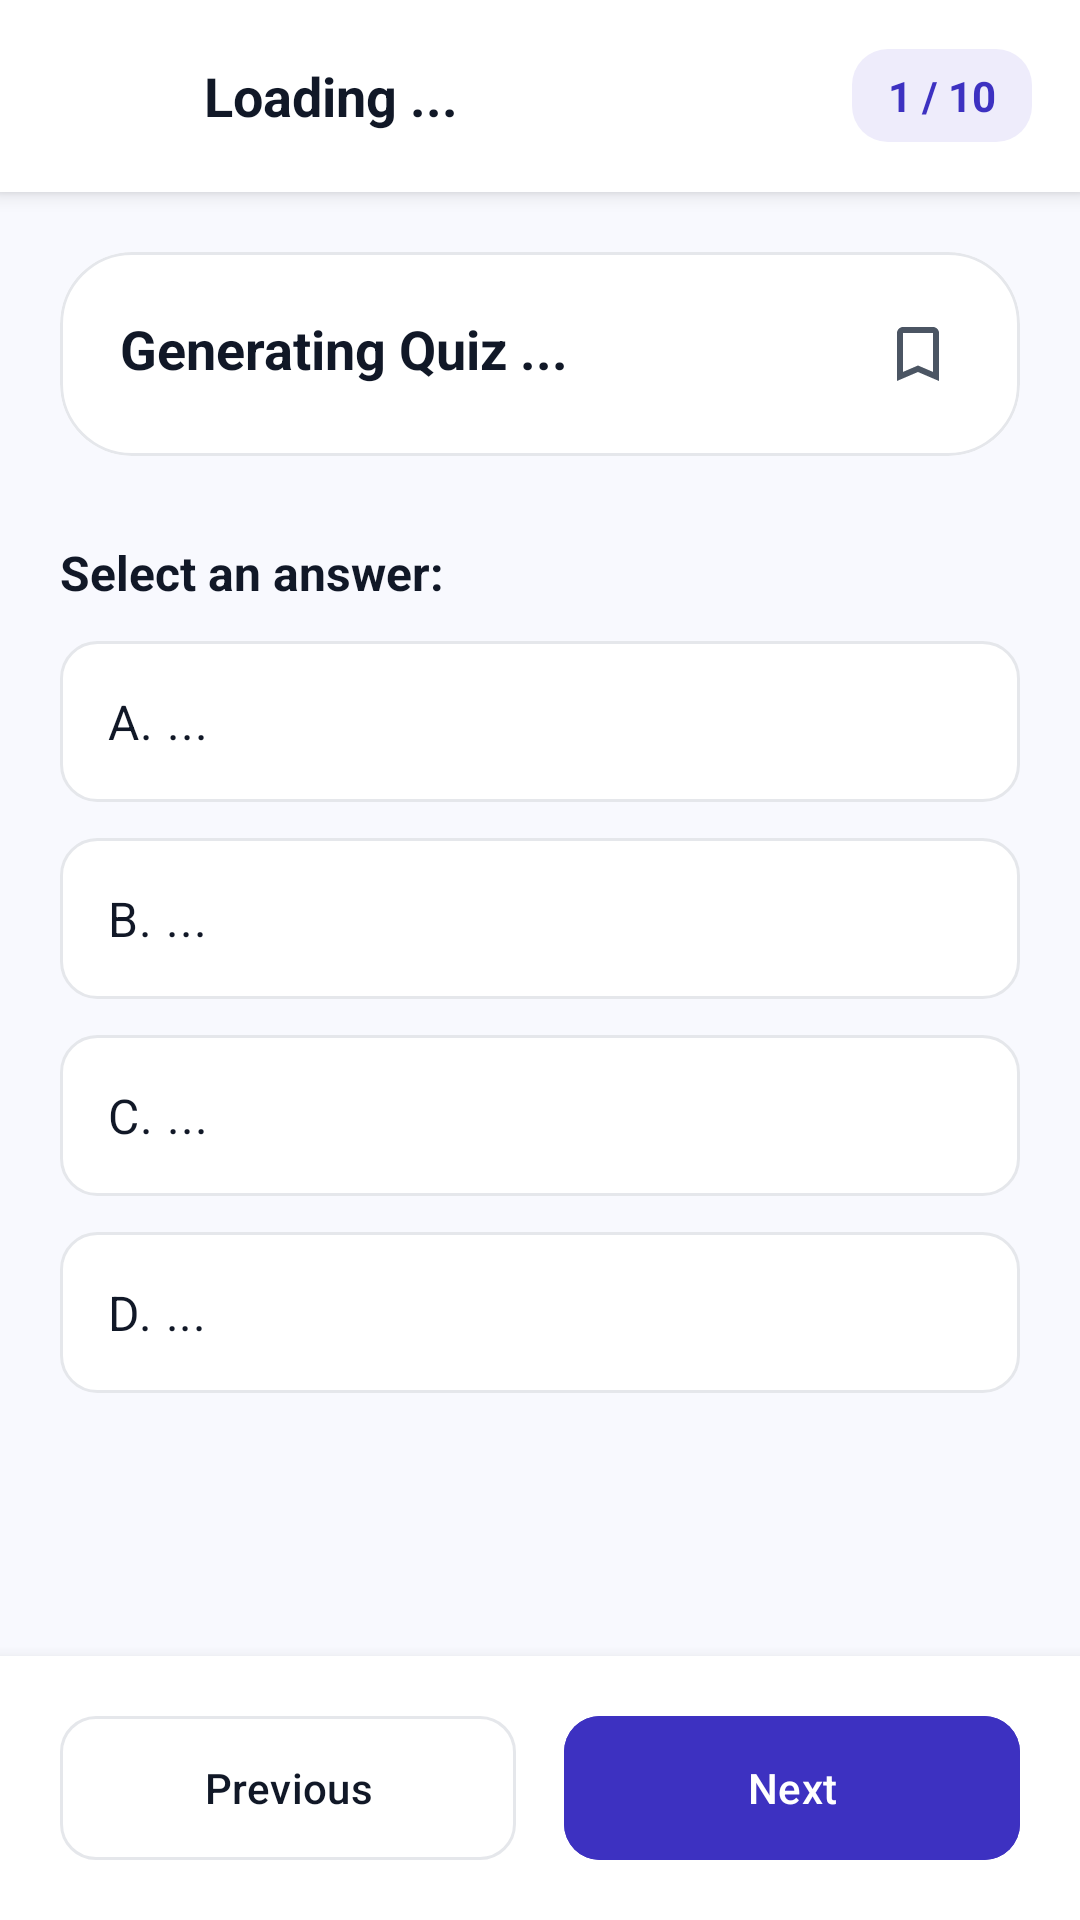

Screen size 1080*1920. Icon name, then its center in pixels as (x=x, y=y):
bookmark: (x=918, y=354)
